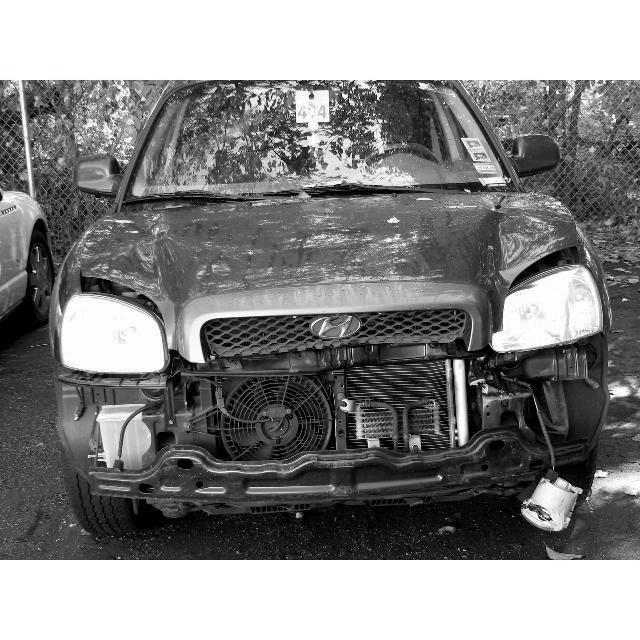front-bumper-dent: (81, 381, 560, 499)
